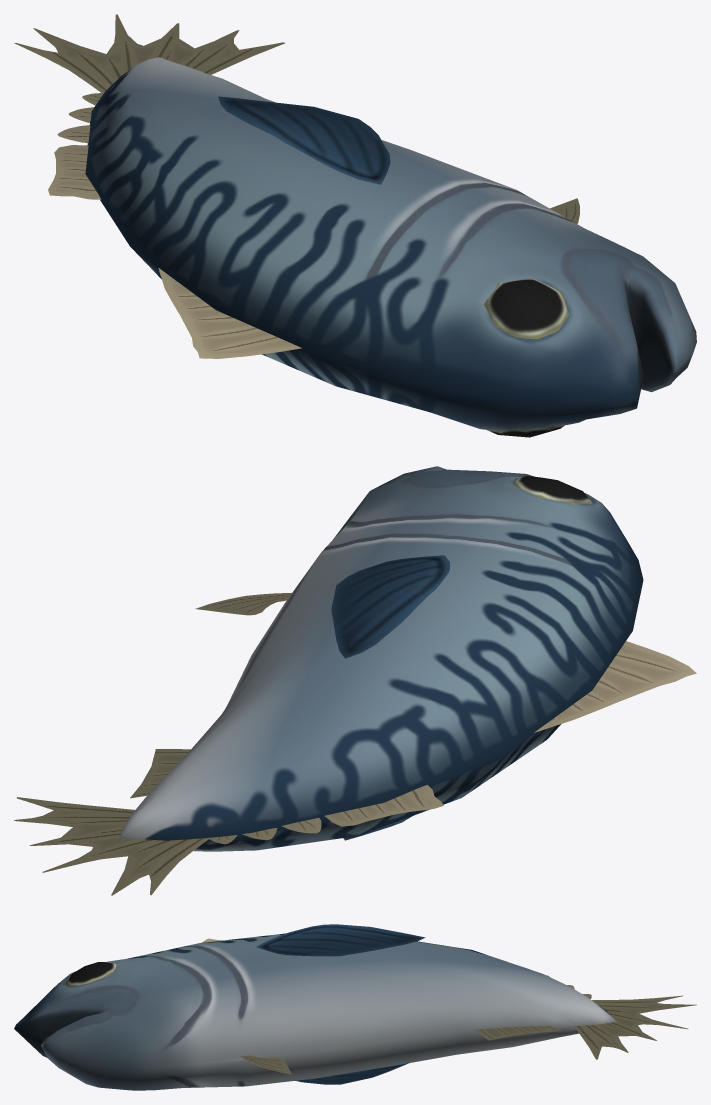
The model's file is PH_fish.fbx.
3 views of the same model, one above another, from view 1: azimuth 30°, elevation 25°; view 2: azimuth 150°, elevation 25°; view 3: azimuth 270°, elevation 25° (orthographic). The views are drawn at different scales.
Parts seen in each view (by area): view 1: fish; view 2: fish; view 3: fish.
Boxes of the visible parts, x1,y1,x2,y2 form: fish: (14, 14, 696, 437); fish: (14, 466, 696, 895); fish: (14, 924, 696, 1090).
Bounding box in the file's own units: 33.72 × 15.53 × 69.86.
Materials: 1 (1 with a texture image).
